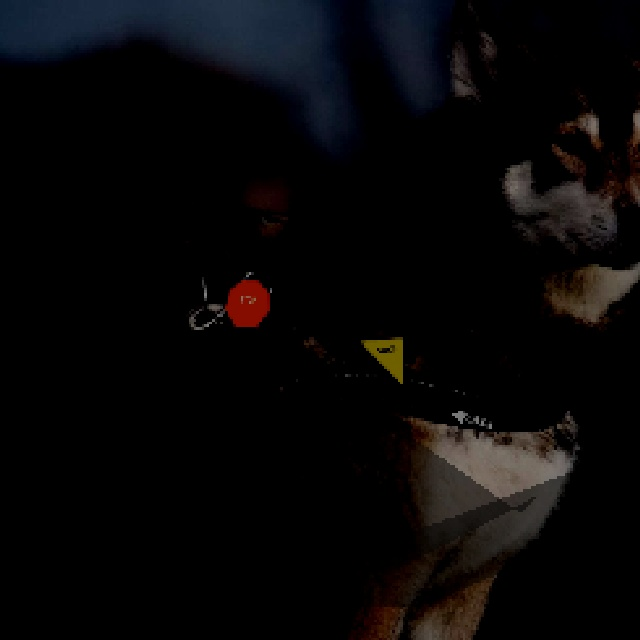ONE_WAY_ left: (445, 404, 495, 431)
STOP: (222, 277, 268, 327)
YIELD: (356, 335, 403, 385)
